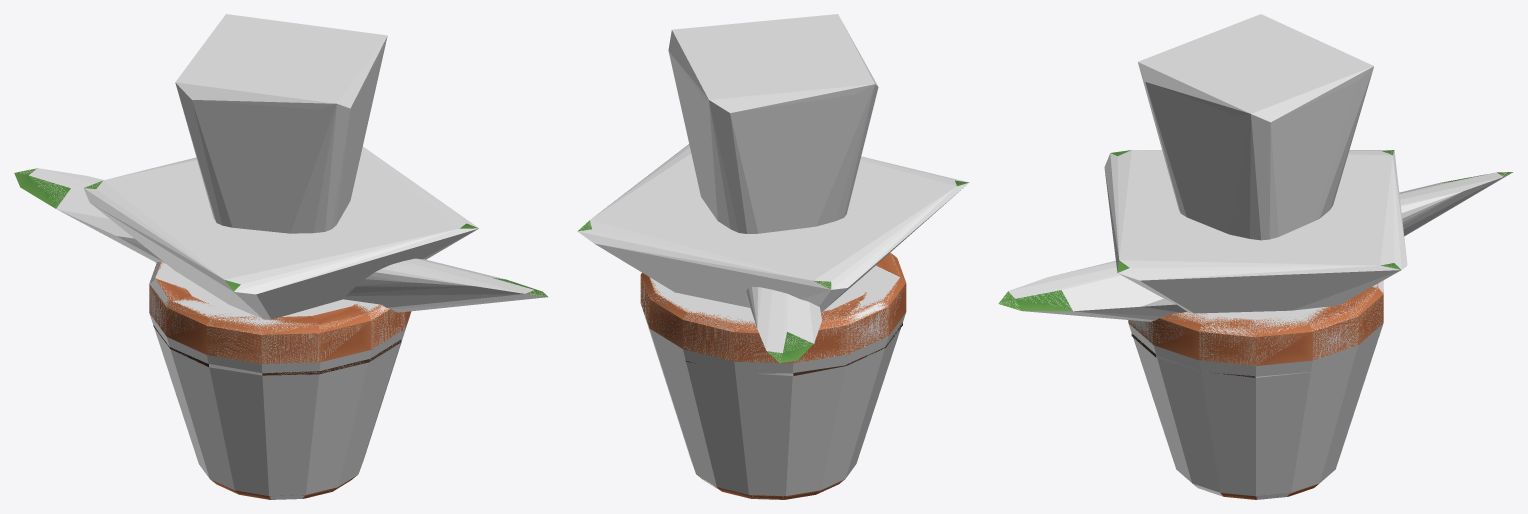
File: potted_plant.glb
The picture shows the model from 3 angles, left to right: view 1: azimuth 30°, elevation 25°; view 2: azimuth 150°, elevation 25°; view 3: azimuth 270°, elevation 25°; orthographic projection.
Visible parts, largest first — view 1: COL_potted_plant_02, COL_potted_plant_00, COL_potted_plant_03, pot, COL_potted_plant_04, leaves_low, soil; view 2: COL_potted_plant_02, COL_potted_plant_00, COL_potted_plant_03, pot, COL_potted_plant_04, leaves_low; view 3: COL_potted_plant_02, COL_potted_plant_00, COL_potted_plant_03, pot, COL_potted_plant_04, leaves_low.
Boxes of the visible parts, box(x1,y1,x2,y2) form: COL_potted_plant_02: box(175, 14, 387, 233); COL_potted_plant_00: box(149, 262, 410, 499); COL_potted_plant_03: box(83, 146, 478, 319); pot: box(149, 262, 410, 499); COL_potted_plant_04: box(20, 168, 548, 312); leaves_low: box(14, 168, 547, 296); soil: box(153, 325, 401, 375); COL_potted_plant_02: box(668, 14, 878, 233); COL_potted_plant_00: box(640, 253, 905, 499); COL_potted_plant_03: box(577, 144, 968, 312); pot: box(640, 253, 906, 499); COL_potted_plant_04: box(746, 287, 821, 361); leaves_low: box(767, 332, 813, 363); COL_potted_plant_02: box(1138, 14, 1373, 240); COL_potted_plant_00: box(1128, 281, 1383, 499); COL_potted_plant_03: box(1104, 150, 1407, 313); pot: box(1128, 280, 1383, 499); COL_potted_plant_04: box(999, 172, 1512, 321); leaves_low: box(998, 172, 1512, 311).
Size of the model in its own units: 0.3379 by 0.4639 by 0.5355.
3 materials, 3 textured.
